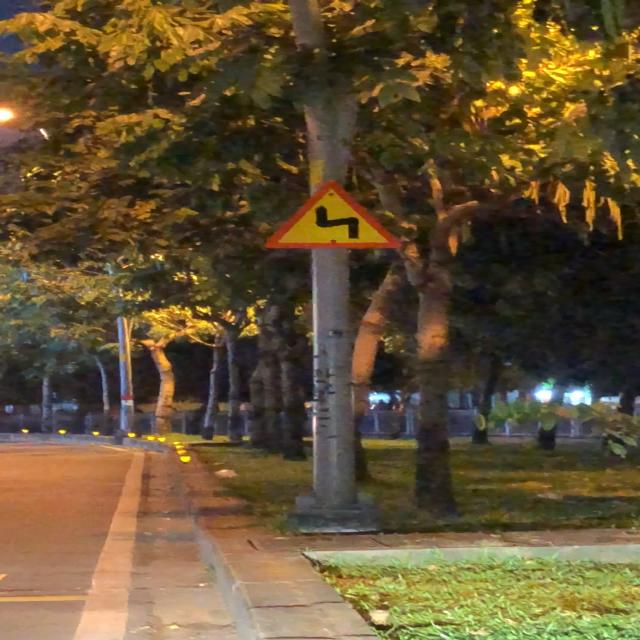Bien bao nhieu cho ngoat nguy hiem lien tiep: (259, 176, 409, 252)
